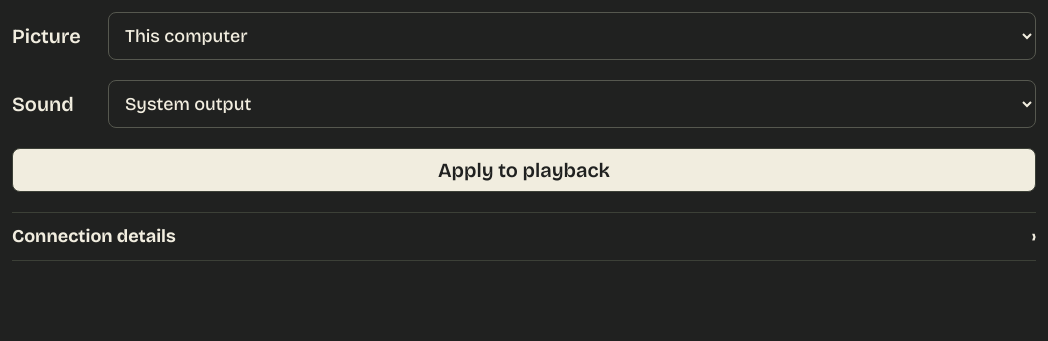
reports a saved target when moving an existing session fails
Select "TV" in the dropdown labelled "Picture" at (572, 36), box [108,12,1036,60]
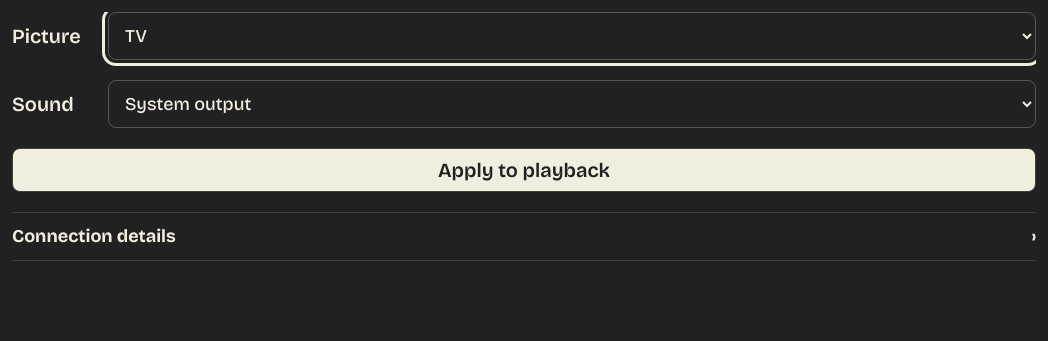
Click the button "Apply to playback".
click(524, 170)  # box [12,148,1036,192]
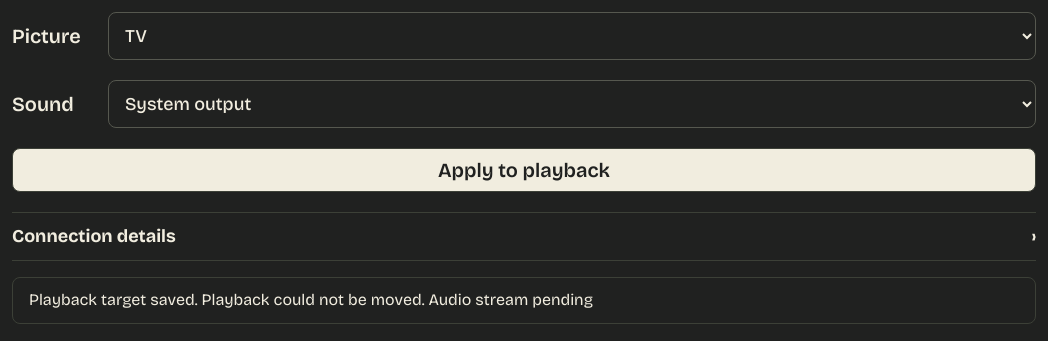
Result: the message shows "Playback target saved." at [29,290,593,309]
Result: the message shows "Audio stream pending" at [29,290,593,309]
